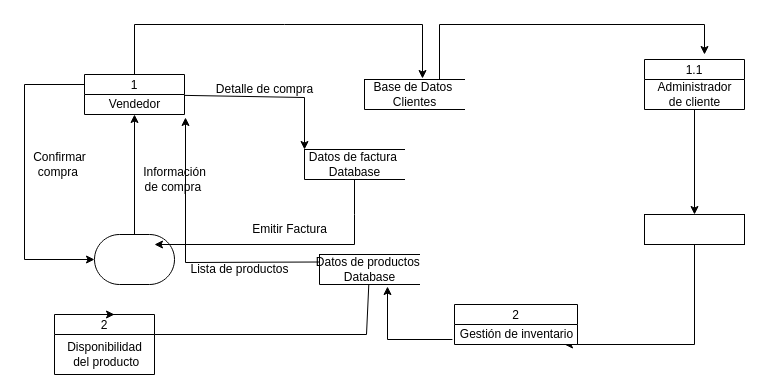
This 762x392 diagram has some shape labels left out. Each missing label, with the centre of its shape:
"Administrador" belongs at (x=694, y=229).
"Cliente" belongs at (x=134, y=259).
